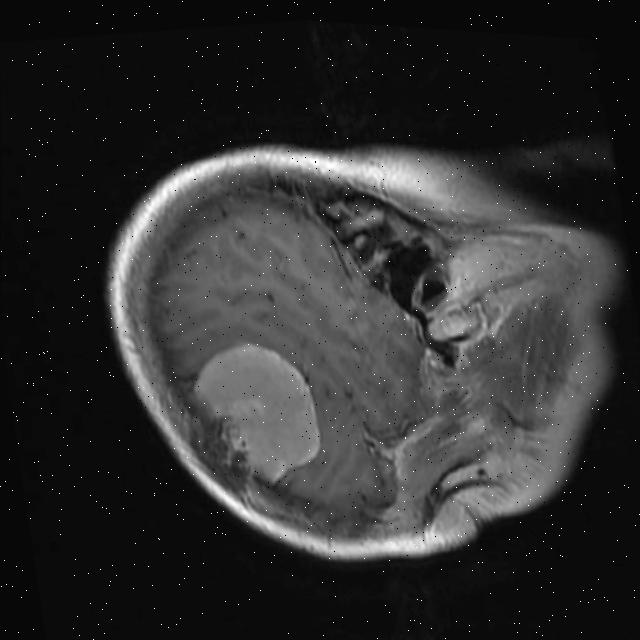Meningioma: (186, 330, 328, 498)
